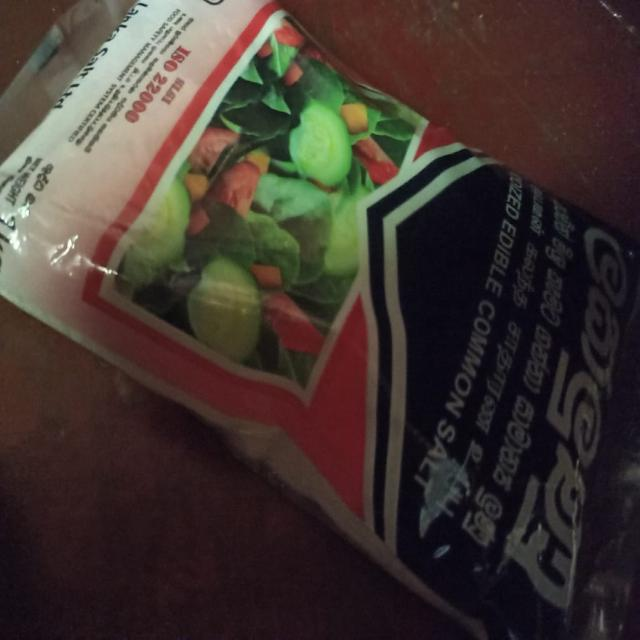Lak Lunu: (2, 2, 640, 636)
